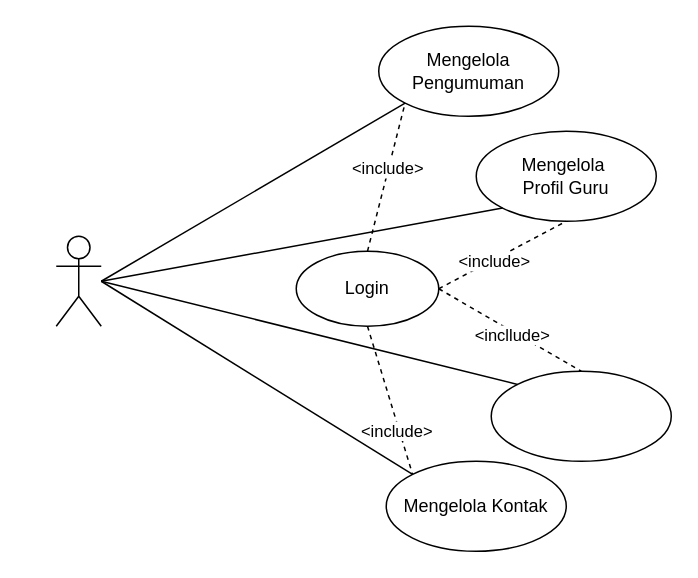
This 698x578 diagram has some shape labels left out. Each missing label, with the centre of its shape:
Administrator: point (78, 280)
Mengelola Galeri: point (580, 415)
